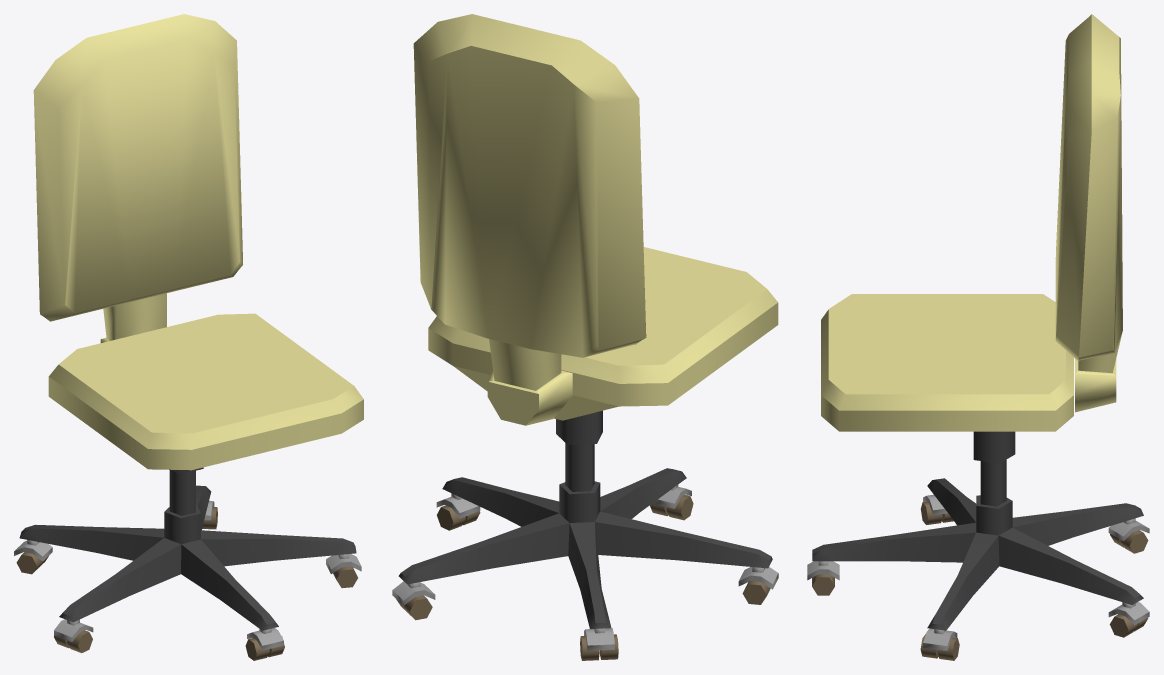
File: chair_01.fbx
The picture shows the model from 3 angles, left to right: view 1: azimuth 30°, elevation 25°; view 2: azimuth 150°, elevation 25°; view 3: azimuth 270°, elevation 25°; orthographic projection. The views are drawn at different scales.
Parts seen in each view (by area): view 1: chair_01; view 2: chair_01; view 3: chair_01.
Boxes of the visible parts, x1,y1,x2,y2 form: chair_01: (14, 14, 363, 660); chair_01: (392, 14, 778, 660); chair_01: (807, 14, 1149, 660).
Size of the model in its own units: 410 by 691 by 390.
